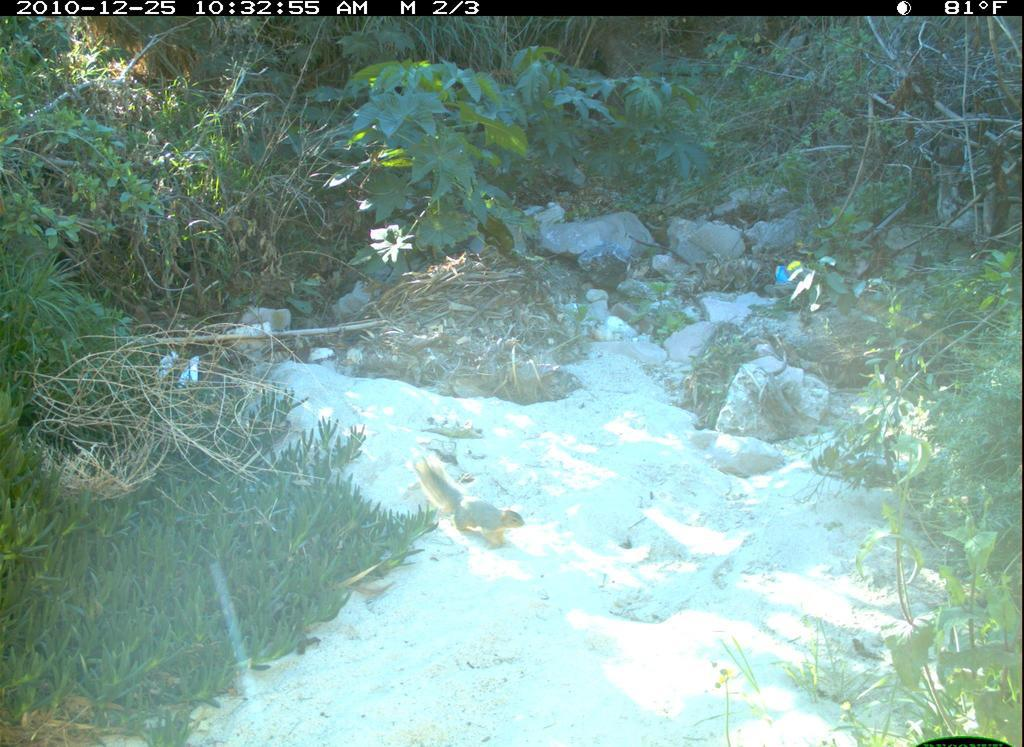squirrel: (411, 460, 529, 555)
